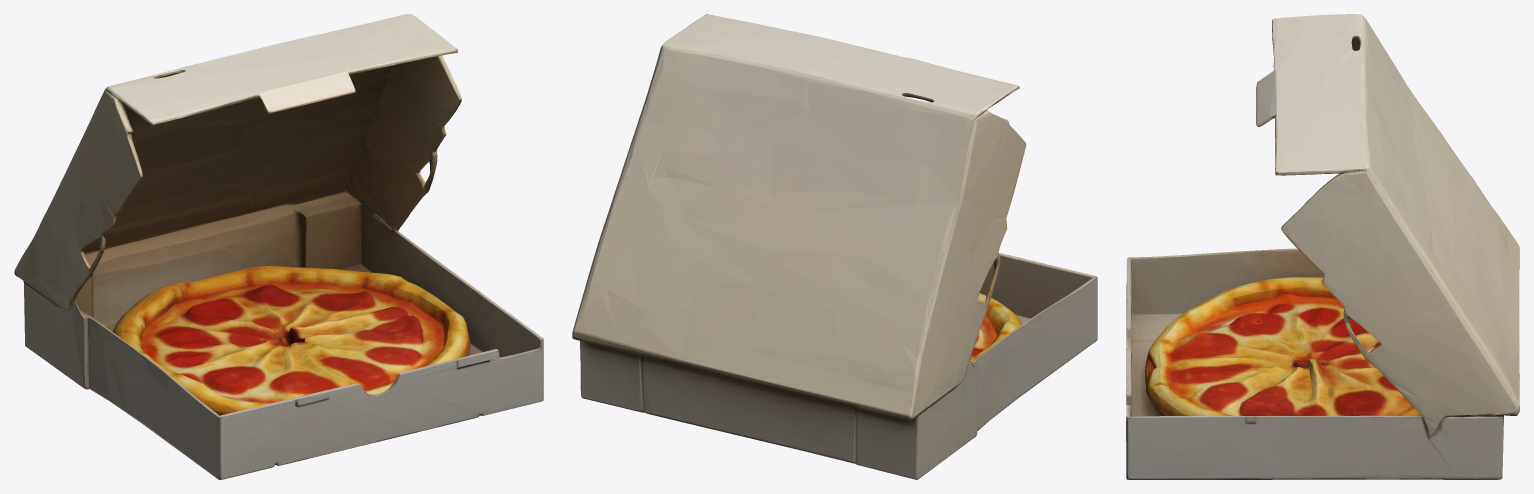
Rendered from food_pizza_box_open.glb.
3 views of the same model, side by side, from view 1: azimuth 30°, elevation 25°; view 2: azimuth 150°, elevation 25°; view 3: azimuth 270°, elevation 25° (orthographic).
Visible parts, largest first — view 1: geometry_0; view 2: geometry_0; view 3: geometry_0.
Part boxes in pixels (x1,y1,x2,y2): geometry_0: (14,14,543,479); geometry_0: (572,14,1097,479); geometry_0: (1126,14,1519,479).
Bounding box in the file's own units: 0.9934 × 0.8654 × 0.9954.
1 material, 1 textured.
